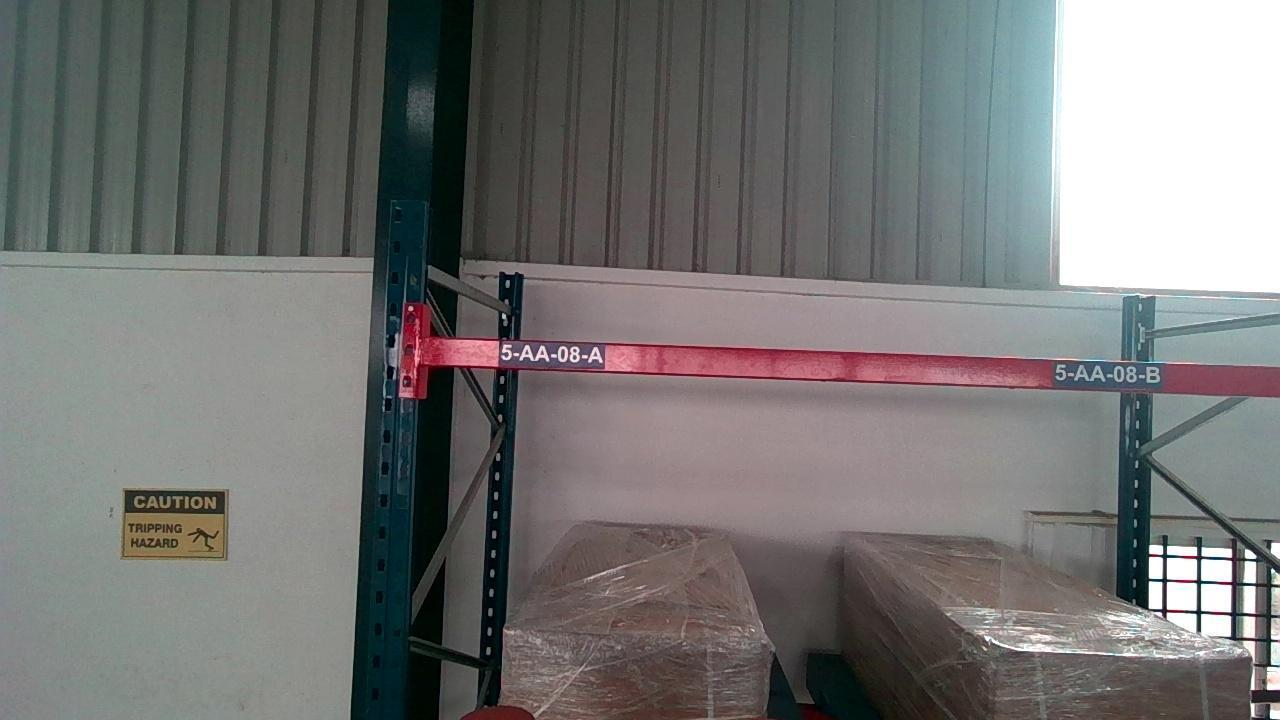h_rack: (422, 341, 1280, 395)
